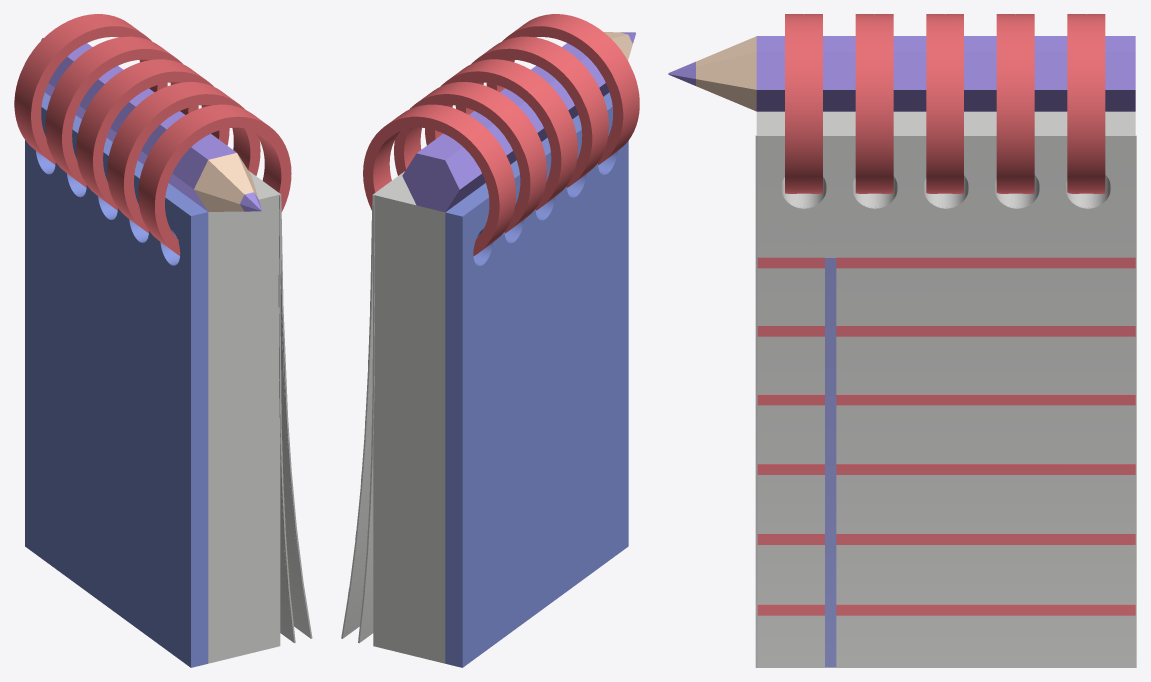
File: notebook day 70.glb
3 views of the same model, side by side, from view 1: azimuth 30°, elevation 25°; view 2: azimuth 150°, elevation 25°; view 3: azimuth 270°, elevation 25° (orthographic). The views are drawn at different scales.
Parts seen in each view (by area): view 1: Body2, Body1, Binder, Binder (1), Binder (2), Binder (4), Binder (3), Pencil body, front paper.001, Pencil head, Body13, Body12; view 2: Body2, Body1, Binder (4), Pencil body, Binder (3), Binder (2), Binder (1), Binder, front paper.001; view 3: front paper.001, Pencil body, Body1, Binder (1), Binder (3), Binder (4), Binder, Binder (2), blue decor, front paper (1), front paper (5), front paper (2) (+11 smaller).
Boxes of the visible parts, bbox=[...] form: Body2: bbox=[25, 92, 208, 667]; Body1: bbox=[208, 173, 280, 663]; Binder: bbox=[138, 104, 291, 255]; Binder (1): bbox=[107, 82, 260, 232]; Binder (2): bbox=[76, 59, 229, 210]; Binder (4): bbox=[14, 14, 167, 164]; Binder (3): bbox=[45, 36, 198, 187]; Pencil body: bbox=[41, 38, 236, 211]; front paper.001: bbox=[249, 171, 309, 641]; Pencil head: bbox=[194, 153, 258, 211]; Body13: bbox=[280, 194, 312, 638]; Body12: bbox=[278, 194, 295, 643]; Body2: bbox=[445, 92, 628, 667]; Body1: bbox=[373, 174, 445, 663]; Binder (4): bbox=[363, 104, 515, 255]; Pencil body: bbox=[402, 43, 609, 212]; Binder (3): bbox=[394, 82, 546, 232]; Binder (2): bbox=[425, 59, 577, 210]; Binder (1): bbox=[455, 36, 608, 187]; Binder: bbox=[486, 14, 639, 164]; front paper.001: bbox=[341, 171, 404, 643]; front paper.001: bbox=[757, 135, 1136, 667]; Pencil body: bbox=[756, 36, 1135, 111]; Body1: bbox=[756, 111, 1135, 207]; Binder (1): bbox=[855, 14, 893, 193]; Binder (3): bbox=[996, 14, 1034, 193]; Binder (4): bbox=[1067, 14, 1105, 193]; Binder: bbox=[785, 14, 822, 193]; Binder (2): bbox=[926, 14, 963, 193]; blue decor: bbox=[825, 257, 836, 666]; front paper (1): bbox=[836, 257, 1135, 268]; front paper (5): bbox=[836, 394, 1135, 405]; front paper (2): bbox=[836, 604, 1135, 615].
Size of the model in its own units: 50.46 by 176 by 124.
